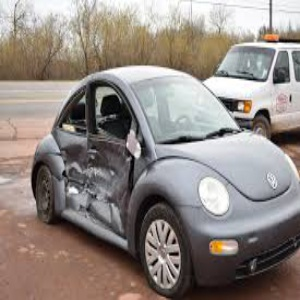door: (56, 138, 131, 235)
